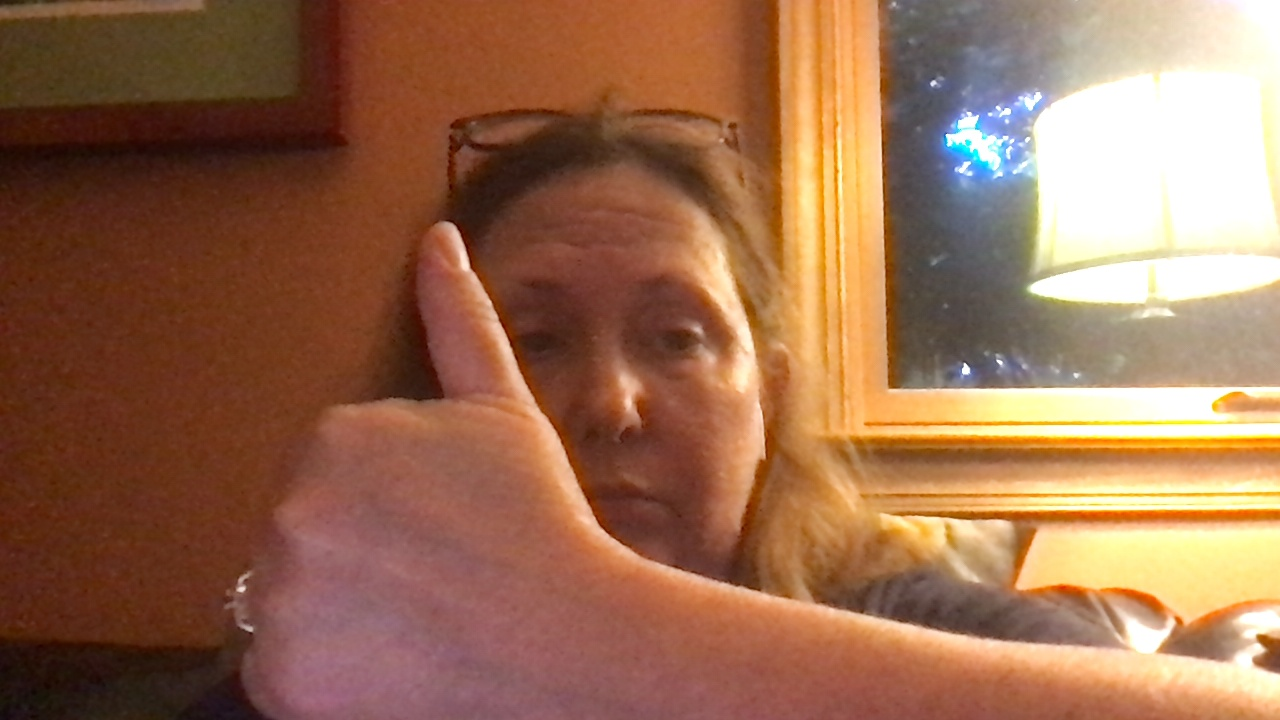thumbsup: (235, 217, 614, 720)
